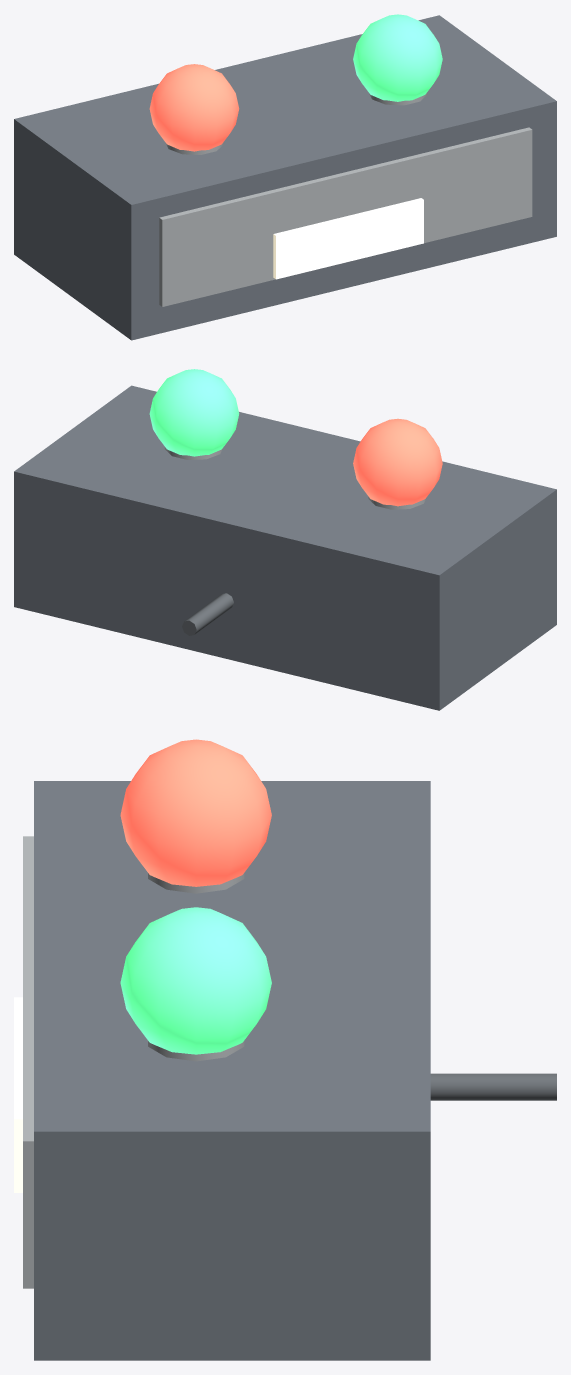
File: scoring_box.glb
The picture shows the model from 3 angles, top to bottom: view 1: azimuth 30°, elevation 25°; view 2: azimuth 150°, elevation 25°; view 3: azimuth 270°, elevation 25°; orthographic projection. The views are drawn at different scales.
Parts seen in each view (by area): view 1: box_body, box_trim, box_window, lamp_green, lamp_red; view 2: box_body, lamp_green, lamp_red, box_cable, box_trim; view 3: box_body, lamp_green, lamp_red, box_trim, box_cable, box_window.
Boxes of the visible parts, box(x1,y1,x2,y2) form: box_body: box(14, 15, 556, 340); box_trim: box(159, 92, 532, 306); box_window: box(273, 198, 423, 279); lamp_green: box(353, 14, 442, 101); lamp_red: box(149, 64, 239, 151); box_body: box(14, 385, 556, 710); lamp_green: box(149, 369, 239, 456); lamp_red: box(353, 418, 442, 506); box_cable: box(182, 593, 233, 635); box_trim: box(164, 447, 426, 509); box_body: box(34, 781, 430, 1360); lamp_green: box(120, 907, 271, 1054); lamp_red: box(120, 739, 271, 886); box_trim: box(23, 836, 244, 1288); box_cable: box(430, 1073, 556, 1100); box_window: box(14, 997, 22, 1192).
Bounding box in the file's own units: 0.46 × 0.217 × 0.301.
